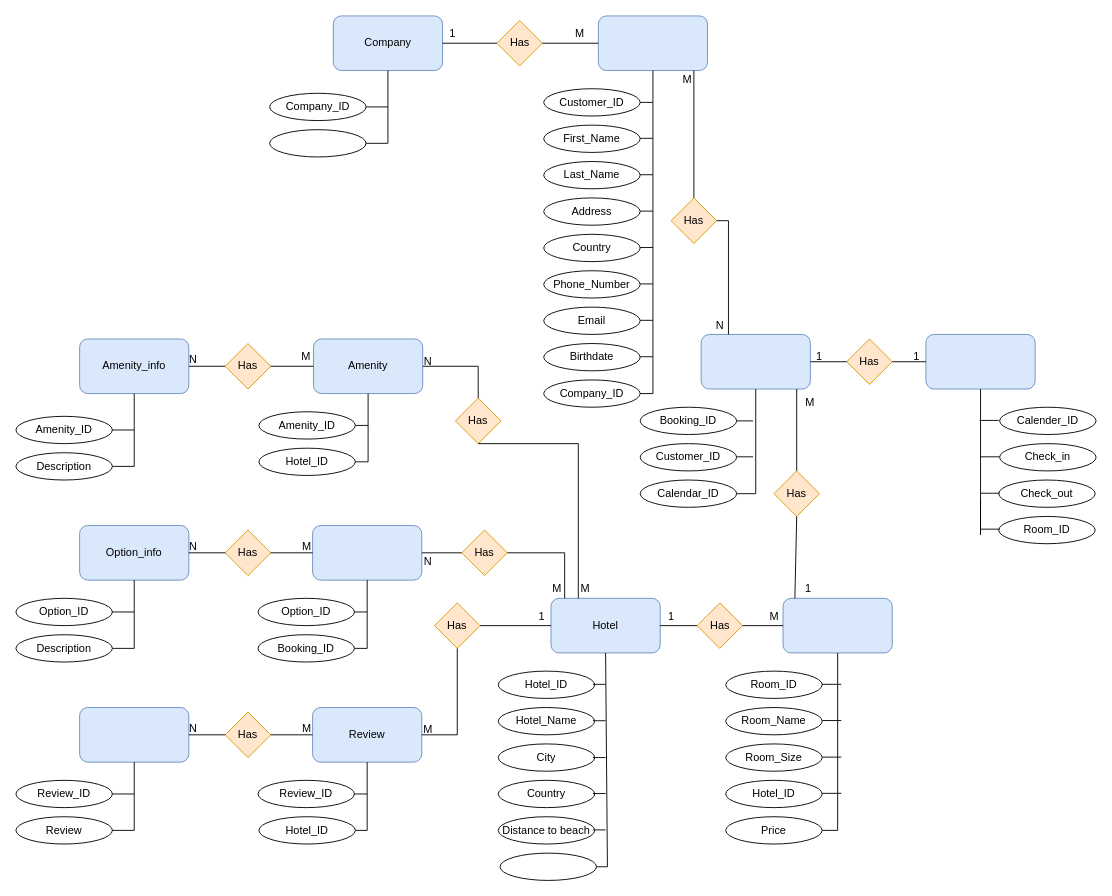
This 1112x896 diagram has some shape labels left out. The centre of each missing label's shape, as x and y in pixels:
Booking: (x=755, y=361)
Calendar: (x=980, y=361)
Company_Name: (x=317, y=143)
Customer: (x=652, y=43)
Distance to center: (x=548, y=866)
Option: (x=367, y=552)
Review_info: (x=134, y=734)
Room: (x=837, y=625)
